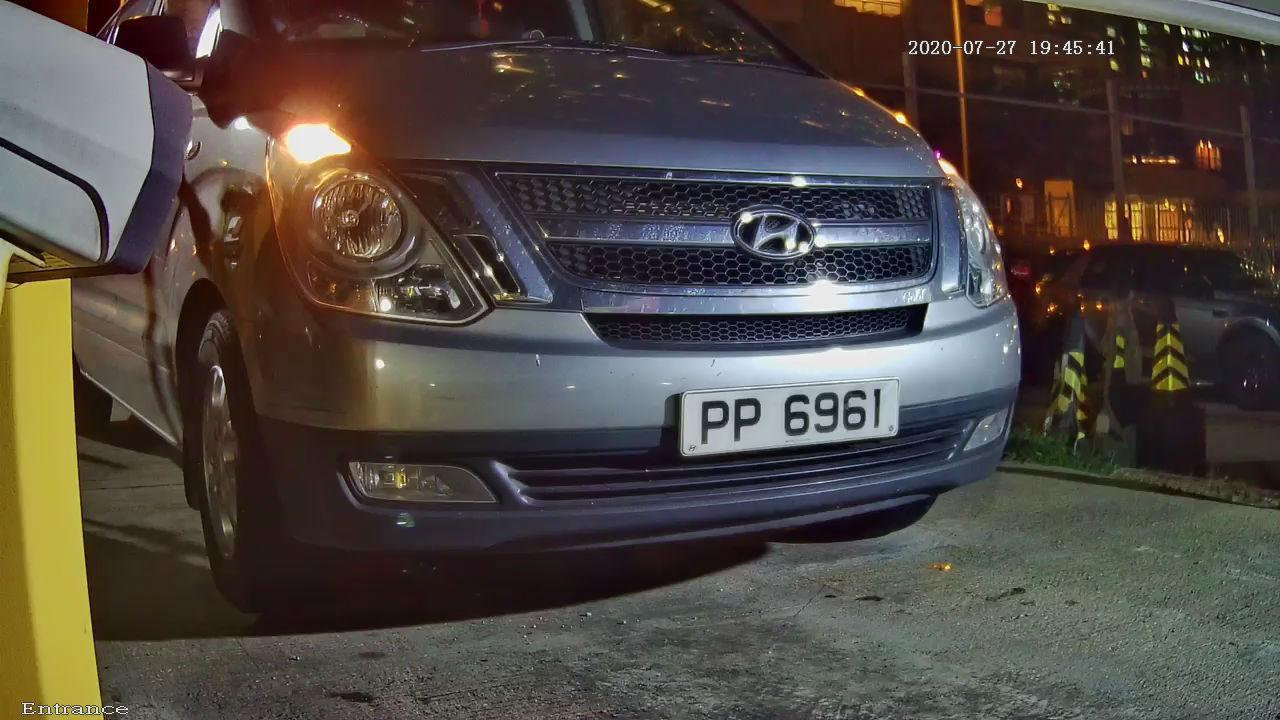privatecar: (63, 13, 1092, 589)
